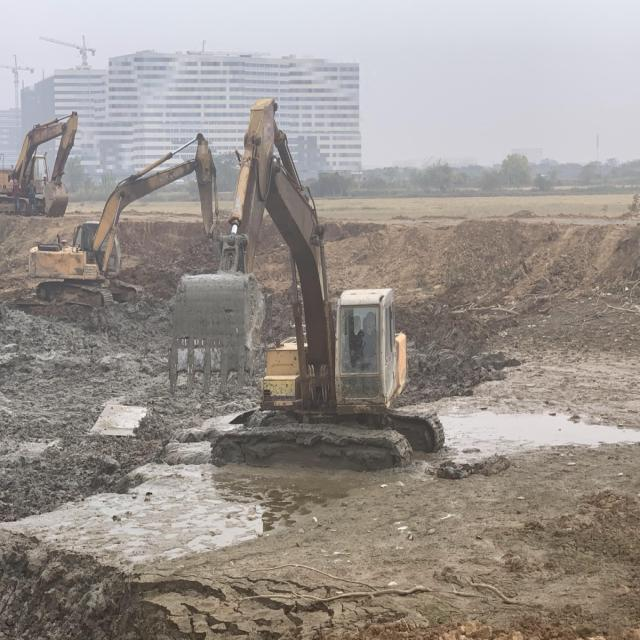crane: (0, 54, 34, 113), (39, 35, 96, 64)
excavator: (169, 98, 445, 473), (28, 132, 231, 308), (0, 111, 77, 217)
